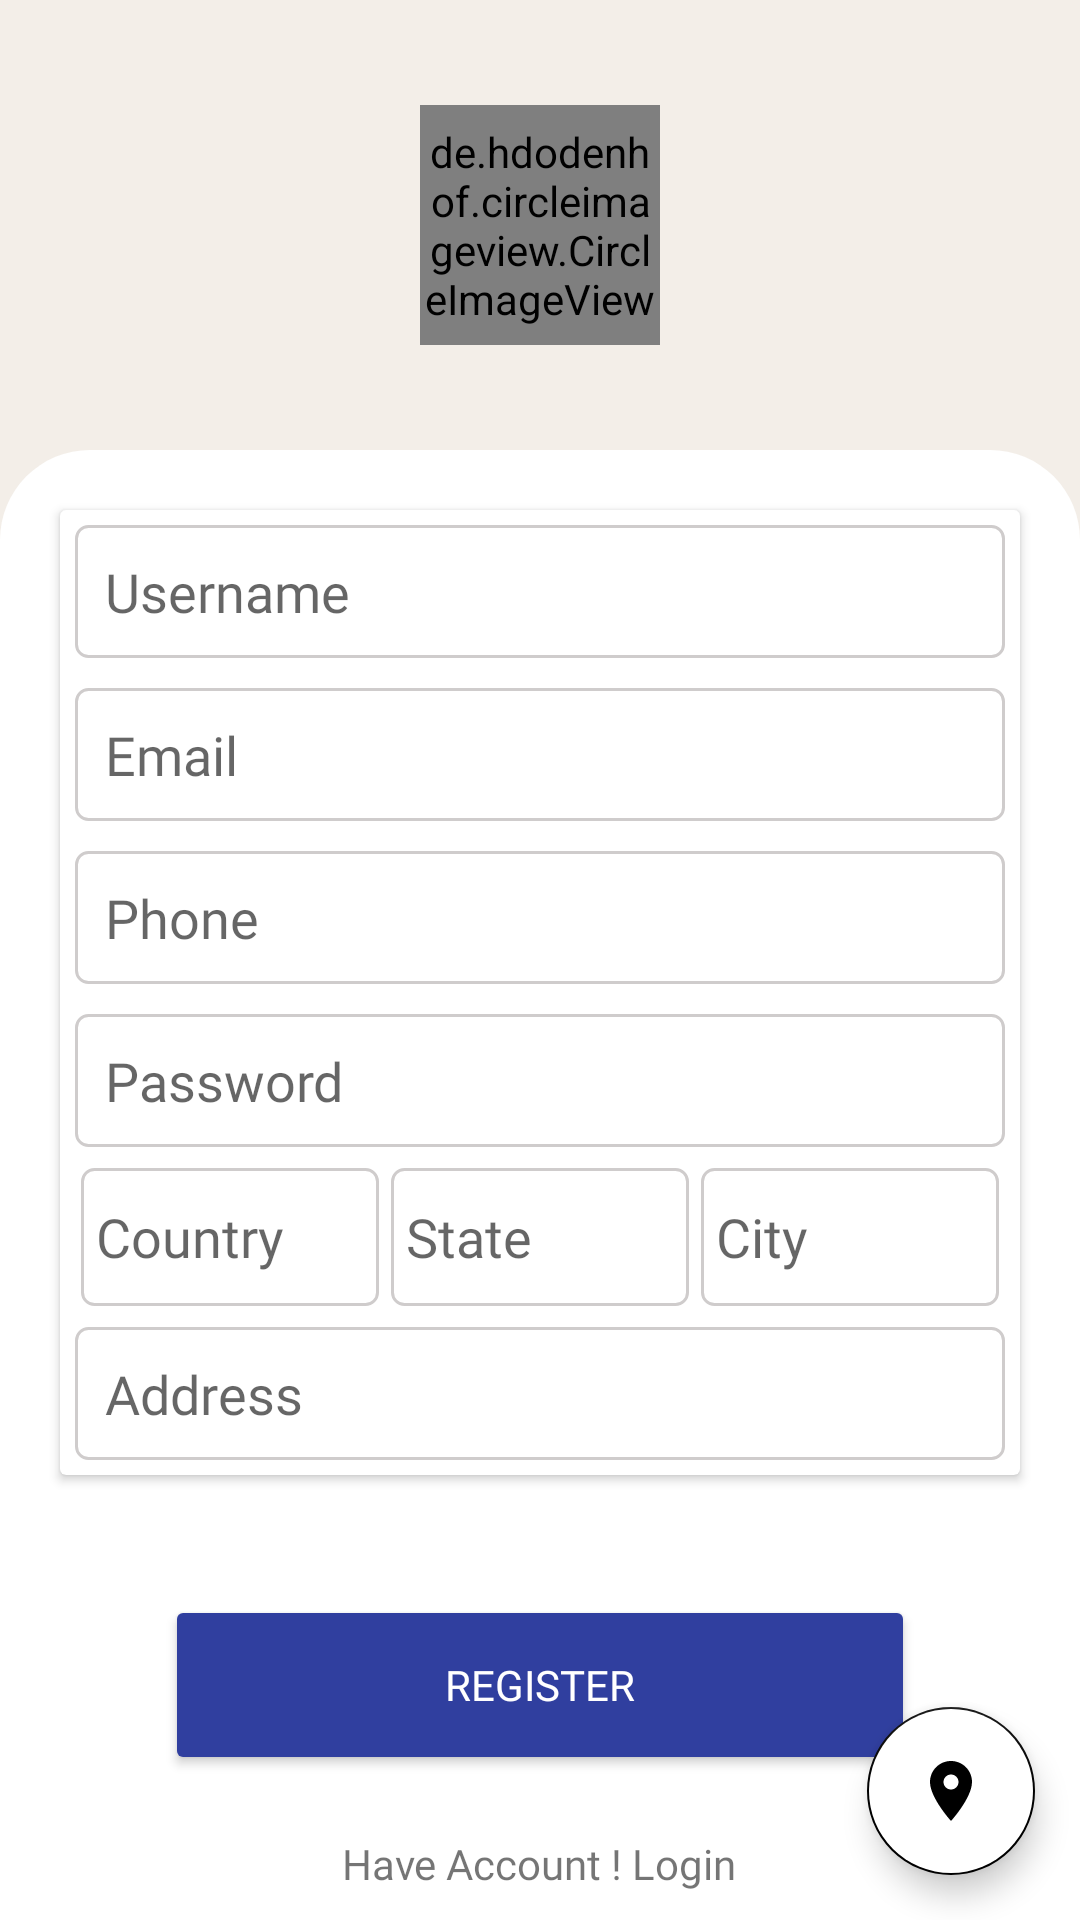

Screen size 1080px x 1920px. Icon name, then its center in pixels as point (x, y):
location on: point (951, 1791)
